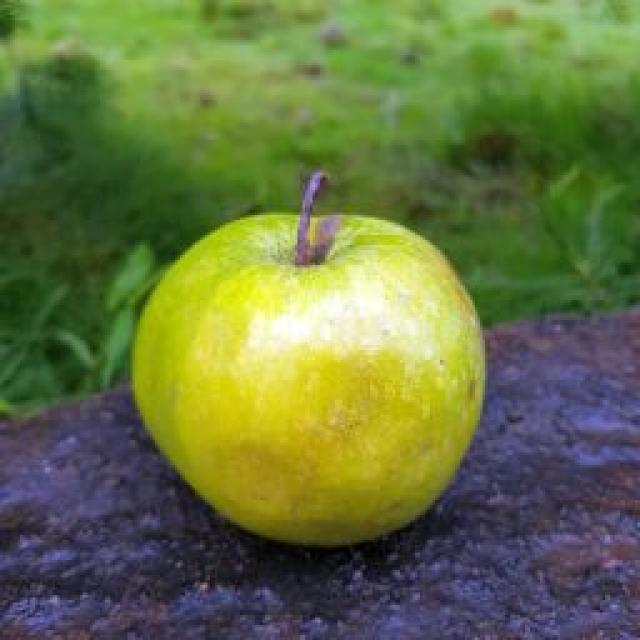Good_Apple: (132, 172, 485, 546)
